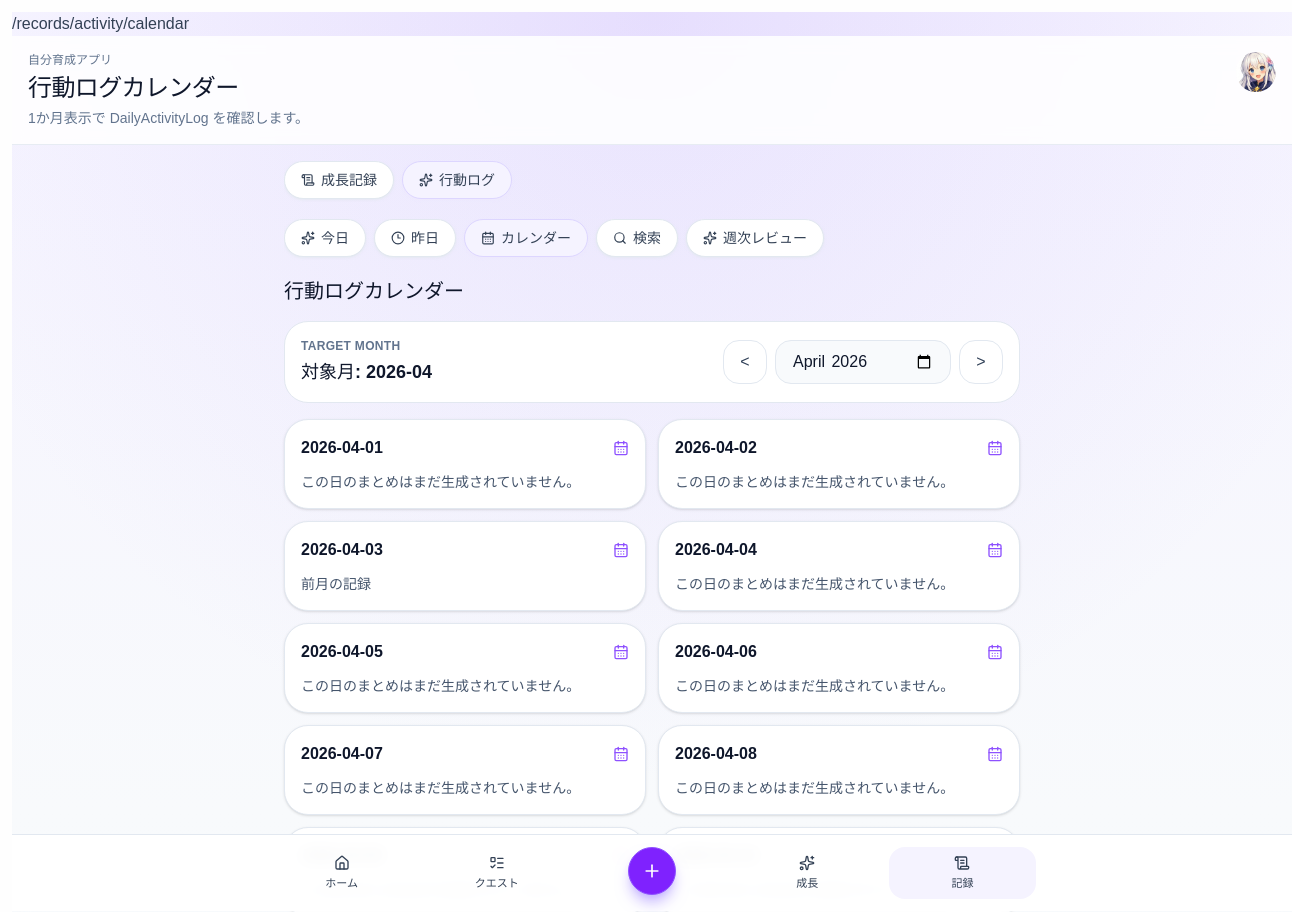
activity log routes › defaults calendar month to the current JST month and updates the month query from controls
Expected: the text "対象月: 2026-04" is shown, [301,358,432,386]
Click the button named "Previous month" at (745, 362), box [723,340,767,384]
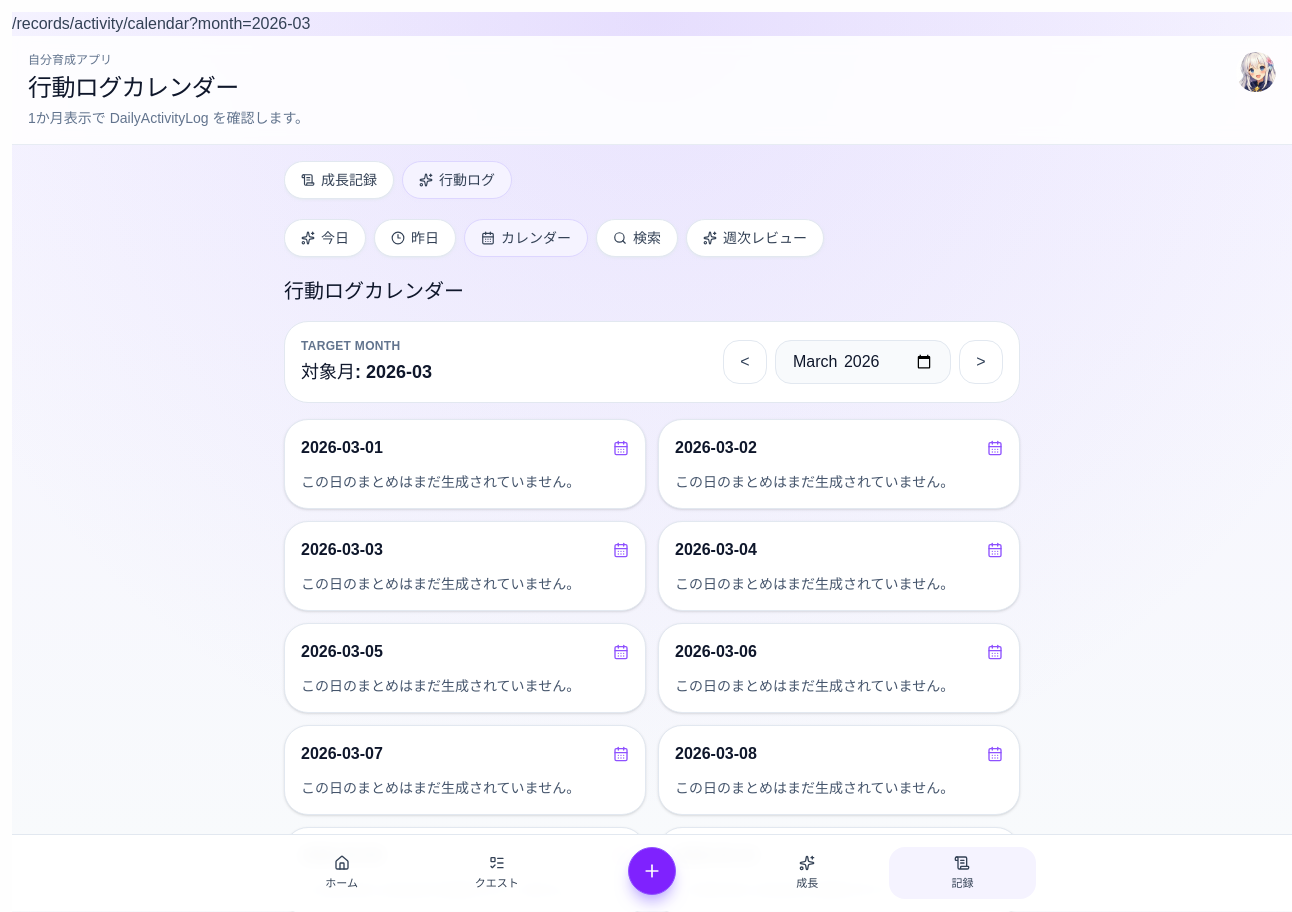
Result: the text with test id "location" reads "/records/activity/calendar?month=2026-03" at [12,15,310,32]
Click the button named "Next month" at (981, 362), box [959,340,1003,384]
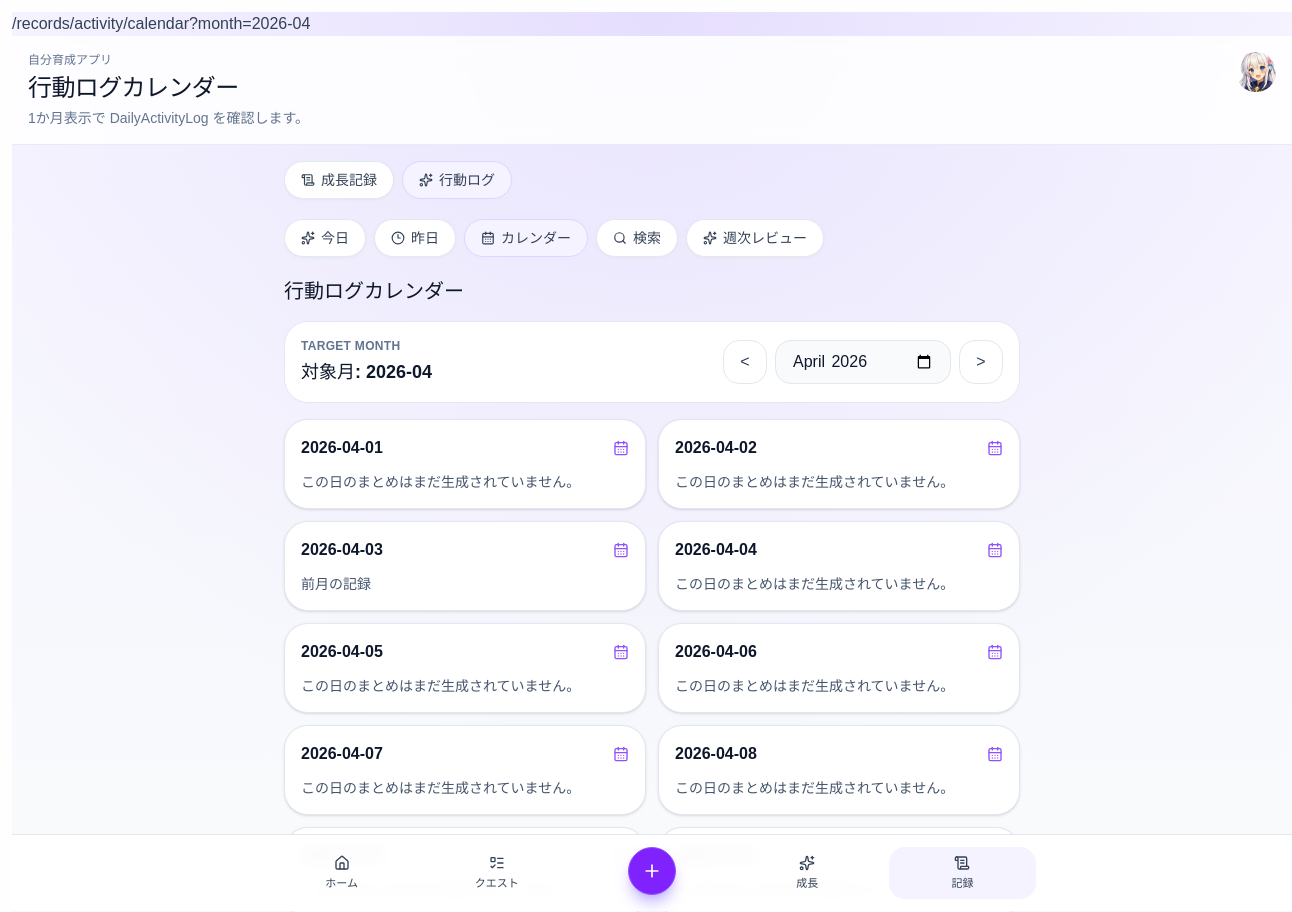
Result: the text with test id "location" reads "/records/activity/calendar?month=2026-04" at [12,15,310,32]
